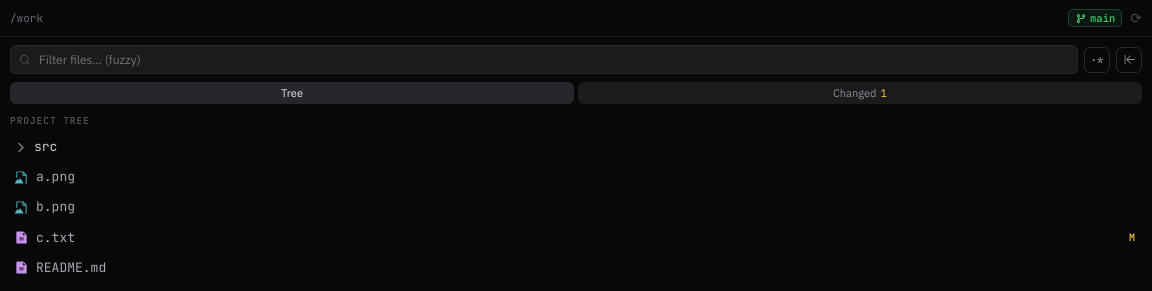
Test: shift-click selects the range between the anchor and the clicked row
Click the text "a.png": (56, 177) [36,168,75,185]
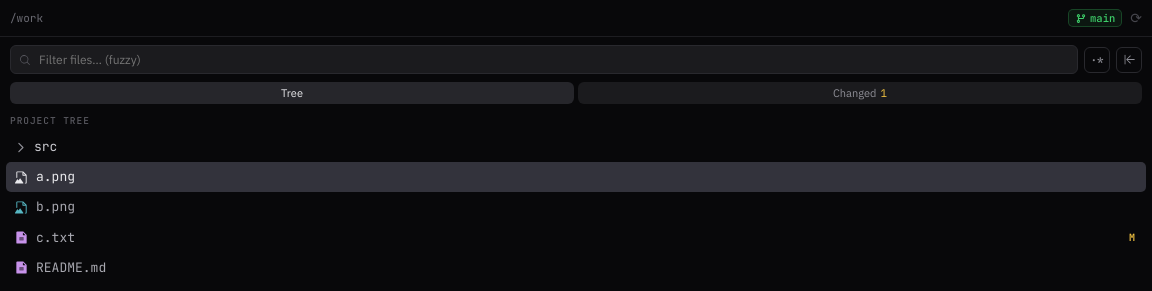
Click the text "c.txt": (56, 237) [36,229,75,246]
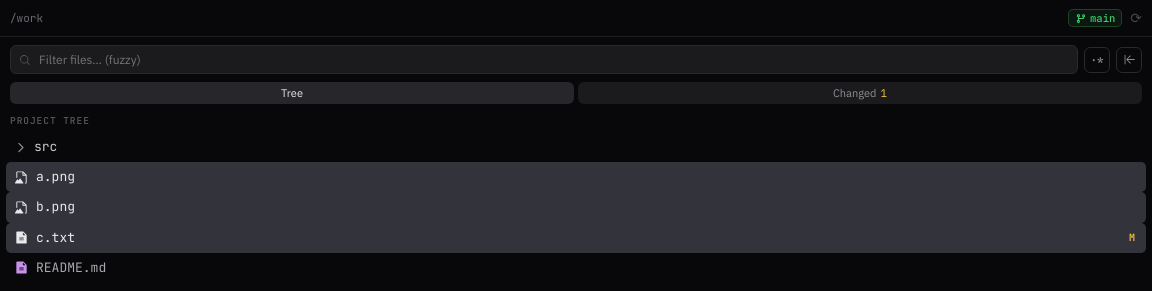
Right-click the text "c.txt": (56, 237) [36,229,75,246]
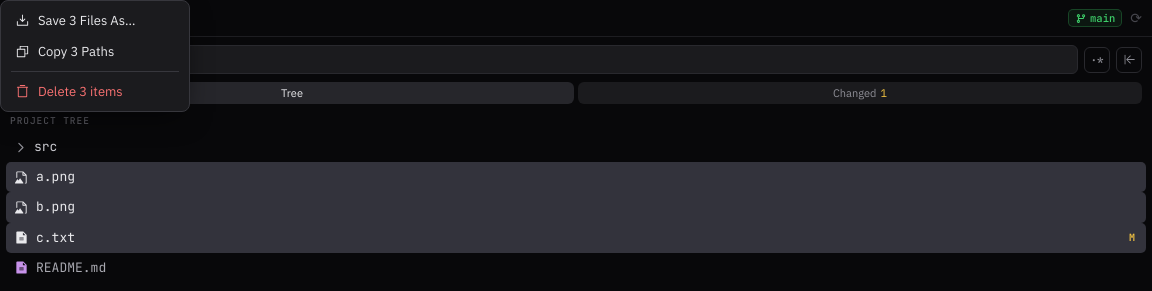
Check: the button "Delete 3 items" is shown, box [5,76,185,107]
